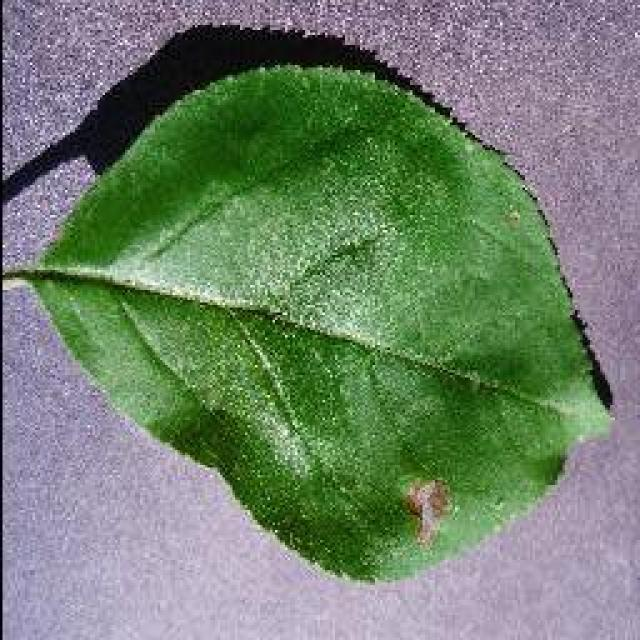apple healthy: (0, 20, 615, 585)
